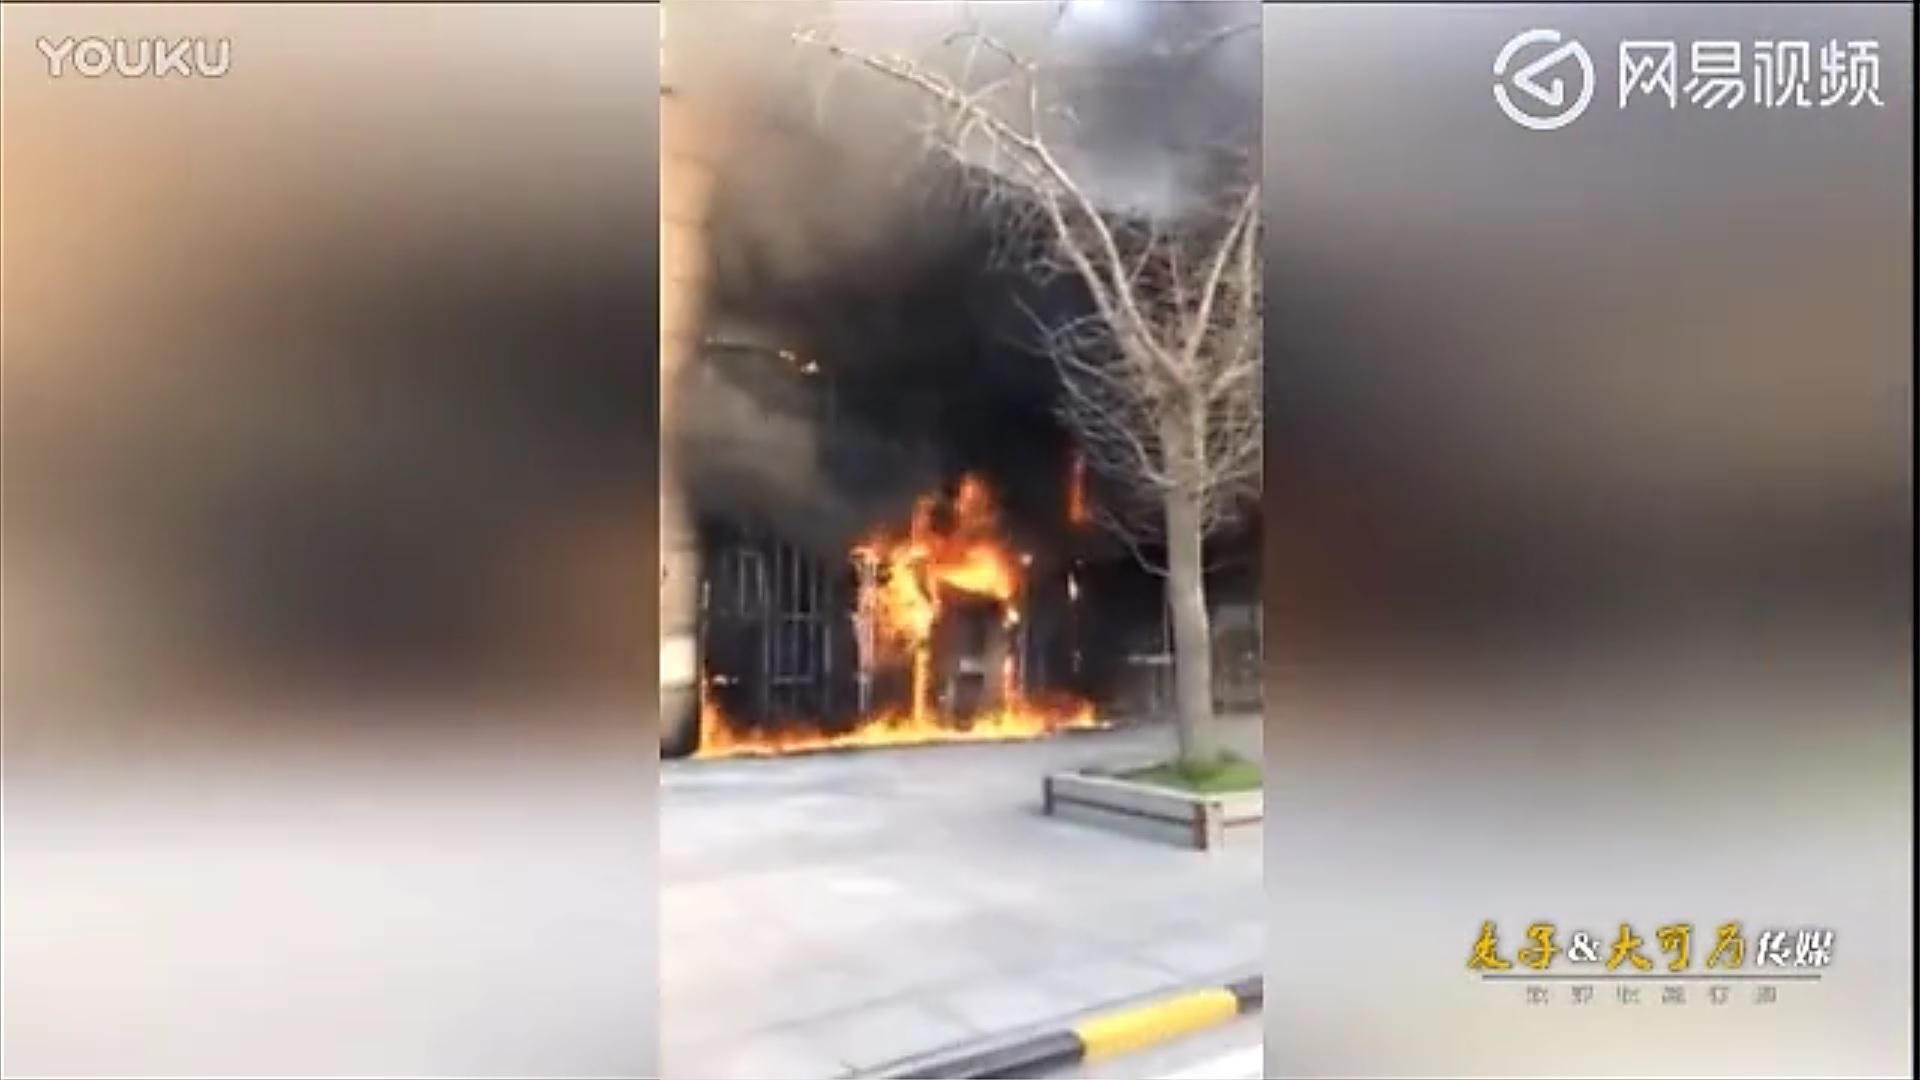fire: (679, 477, 1106, 754)
